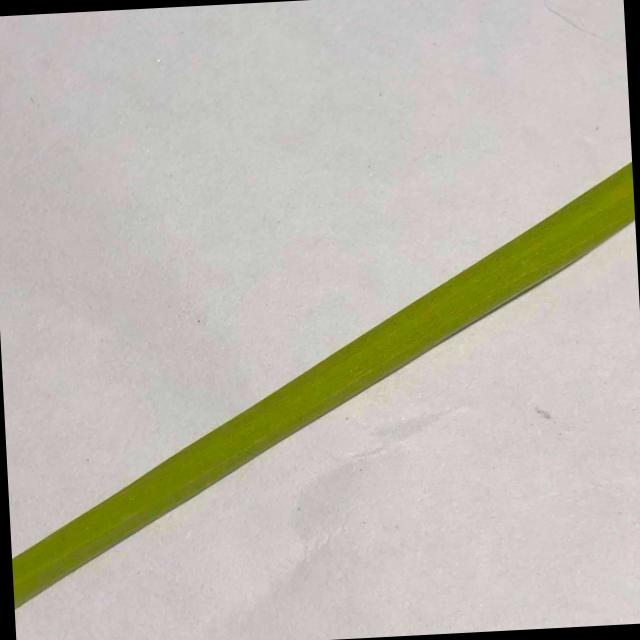Rice_Healthy: (12, 162, 635, 609)
